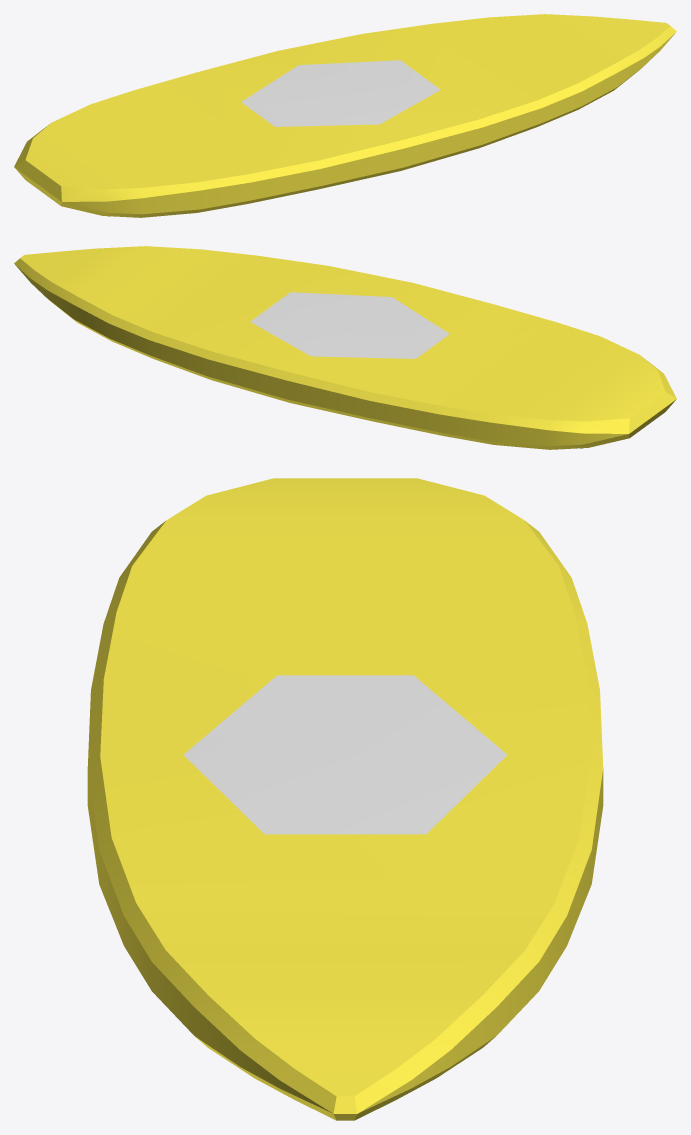
File: sörf tahtası saarı.fbx
3 renders of one model, top to bottom at view 1: azimuth 30°, elevation 25°; view 2: azimuth 150°, elevation 25°; view 3: azimuth 270°, elevation 25°, orthographic. The views are drawn at different scales.
Visible parts, largest first — view 1: pCube1; view 2: pCube1; view 3: pCube1.
Part boxes in pixels (x1,y1,x2,y2): pCube1: [14, 14, 676, 217]; pCube1: [14, 246, 676, 449]; pCube1: [87, 478, 603, 1120].
Bounding box in the file's own units: 294 × 29.19 × 103.
